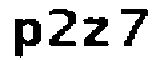2: (45, 4, 78, 49)
7: (119, 5, 148, 48)
p: (10, 16, 44, 59)
z: (81, 15, 112, 50)
